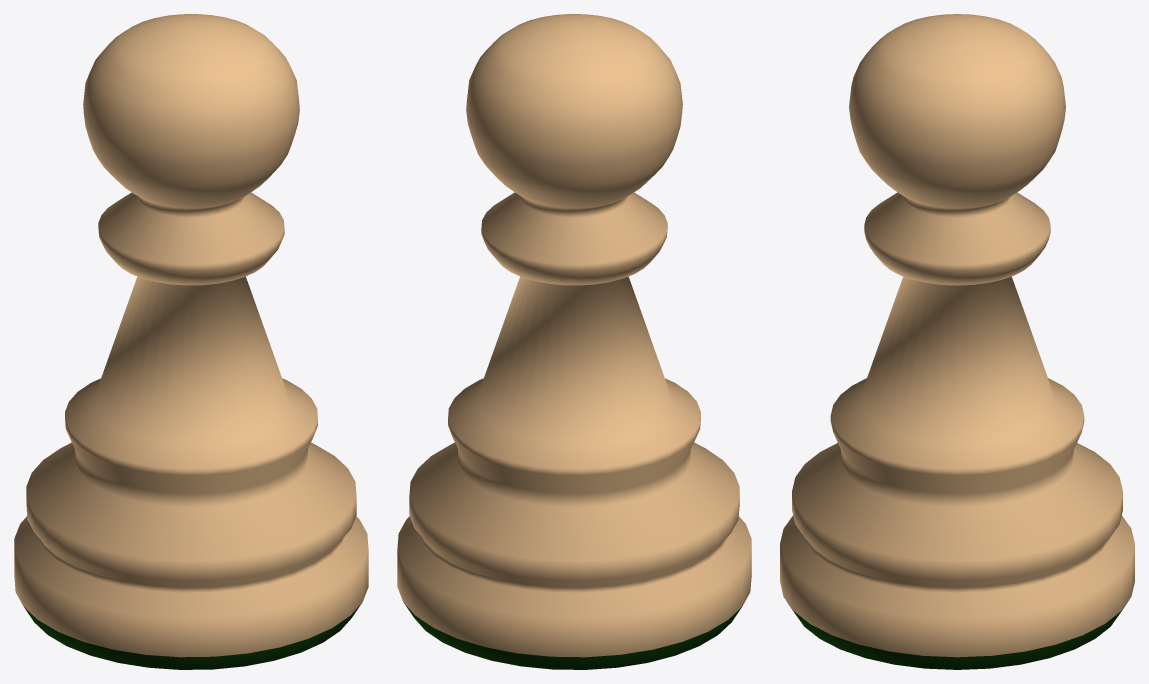
File: pawnMesh.fbx
3 renders of one model, left to right at view 1: azimuth 30°, elevation 25°; view 2: azimuth 150°, elevation 25°; view 3: azimuth 270°, elevation 25°, orthographic.
Visible parts, largest first — view 1: Pawn; view 2: Pawn; view 3: Pawn.
Part boxes in pixels (x1,y1,x2,y2): Pawn: [14, 14, 368, 669]; Pawn: [397, 14, 751, 669]; Pawn: [780, 14, 1134, 669].
Size of the model in its own units: 55.52 by 99.03 by 55.52.
